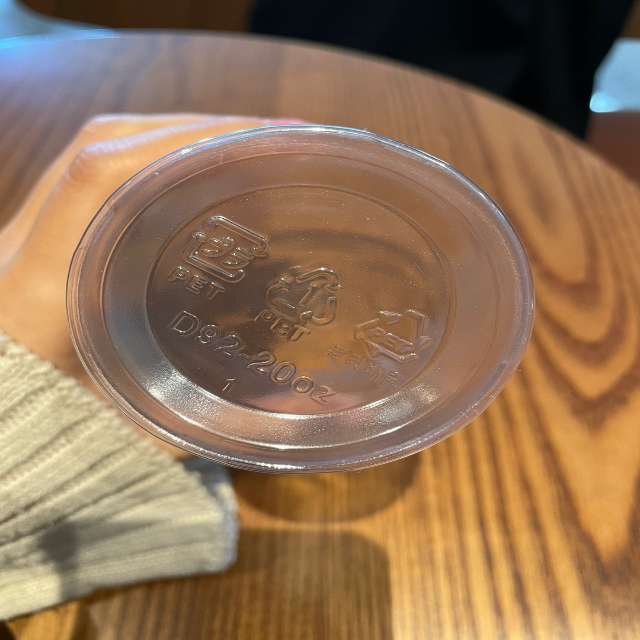pet: (166, 207, 268, 305), (327, 302, 434, 390), (253, 259, 342, 350)
